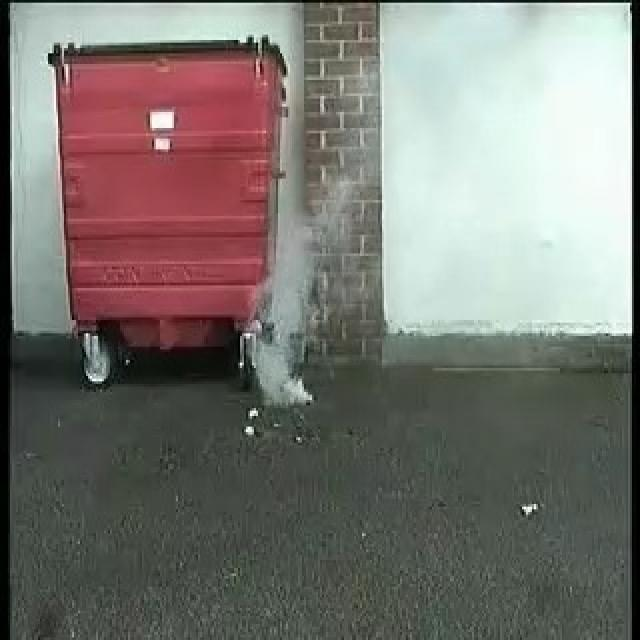smoke: (248, 198, 330, 404)
